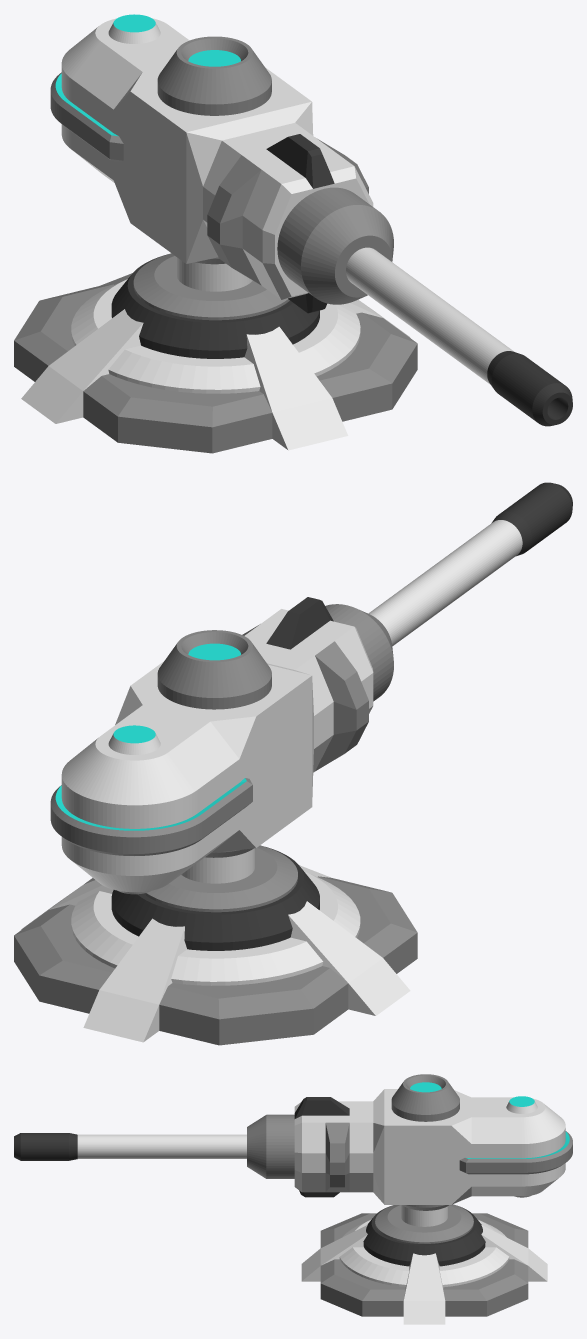
Rendered from SniperTurret.fbx.
The picture shows the model from 3 angles, top to bottom: view 1: azimuth 30°, elevation 25°; view 2: azimuth 150°, elevation 25°; view 3: azimuth 270°, elevation 25°; orthographic projection. The views are drawn at different scales.
Visible parts, largest first — view 1: MountedGunLeft, GunBase, ChassisRotationalAxis; view 2: MountedGunLeft, GunBase, ChassisRotationalAxis; view 3: MountedGunLeft, GunBase, ChassisRotationalAxis.
Part boxes in pixels (bbox=[...]): MountedGunLeft: bbox=[50, 14, 572, 426]; GunBase: bbox=[14, 253, 417, 453]; ChassisRotationalAxis: bbox=[176, 257, 252, 291]; MountedGunLeft: bbox=[50, 482, 572, 894]; GunBase: bbox=[14, 845, 417, 1045]; ChassisRotationalAxis: bbox=[181, 848, 254, 883]; MountedGunLeft: bbox=[14, 1074, 572, 1210]; GunBase: bbox=[301, 1204, 547, 1324]; ChassisRotationalAxis: bbox=[401, 1205, 447, 1226].
Bounding box in the file's own units: 265 × 226 × 603.
